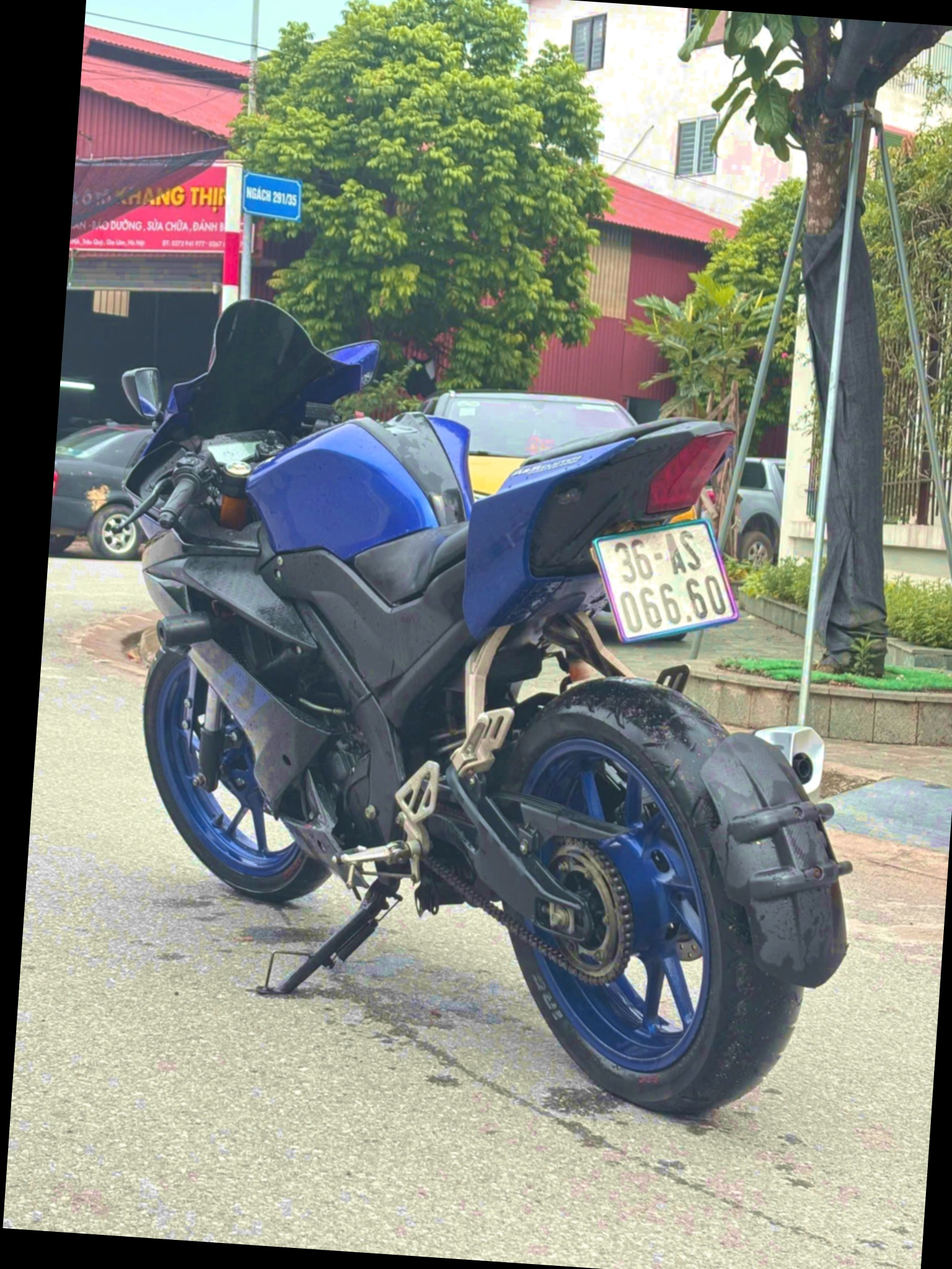Bien-so: (582, 502, 753, 658)
